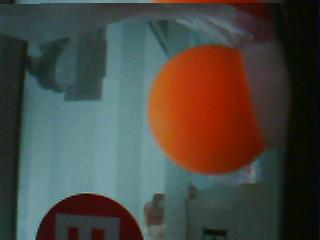oball: (147, 44, 262, 175)
